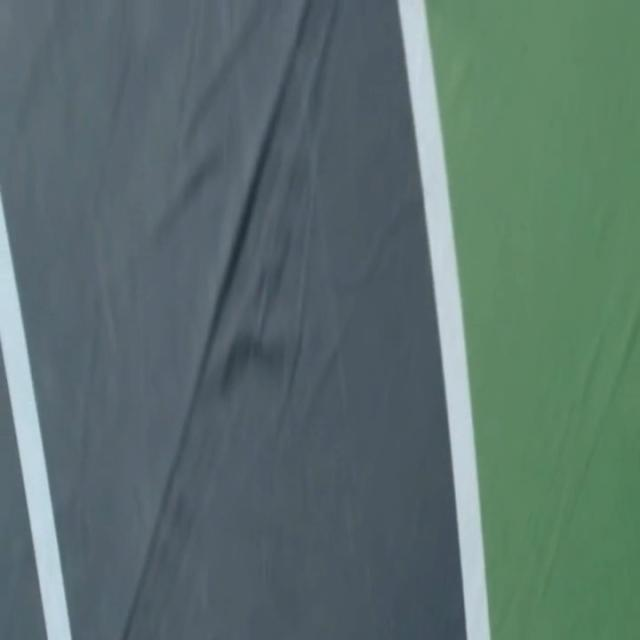center: (0, 193, 71, 639)
right: (398, 0, 490, 639)
